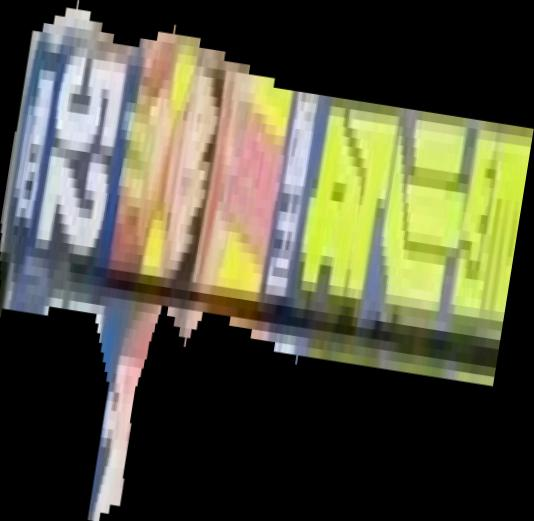flat: (1, 1, 534, 521)
